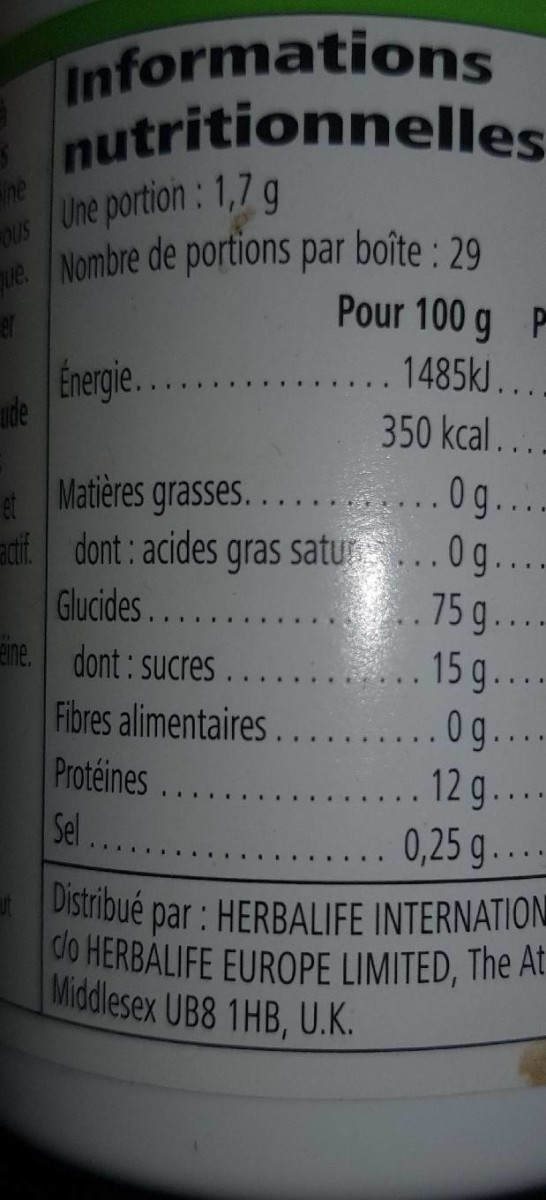column: (53, 361, 359, 856), (382, 354, 490, 869)
table: (45, 30, 546, 883)
